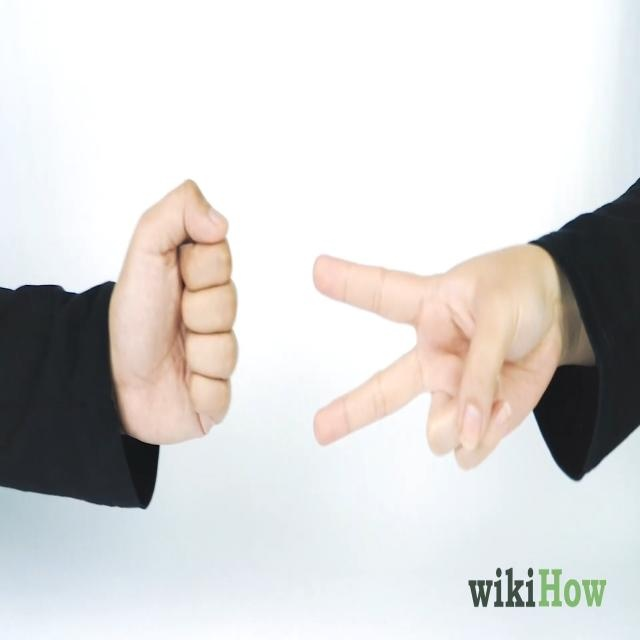Rock: (112, 178, 240, 446)
Scissors: (311, 242, 561, 474)
